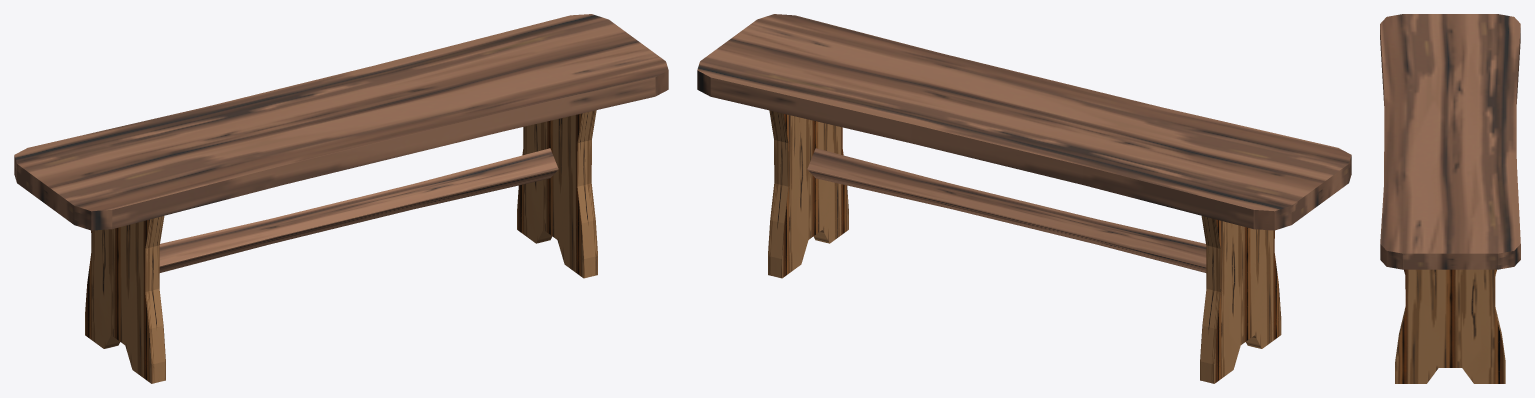
File: furniture_bench_02.fbx
3 views of the same model, side by side, from view 1: azimuth 30°, elevation 25°; view 2: azimuth 150°, elevation 25°; view 3: azimuth 270°, elevation 25° (orthographic). The views are drawn at different scales.
Parts seen in each view (by area): view 1: furniture_bench_02; view 2: furniture_bench_02; view 3: furniture_bench_02.
Part boxes in pixels (<box>): furniture_bench_02: <box>14,14,668,383</box>; furniture_bench_02: <box>697,14,1351,383</box>; furniture_bench_02: <box>1380,14,1520,383</box>.
Bounding box in the file's own units: 1.92 × 0.5967 × 0.4763.
Materials: 1 (1 with a texture image).
